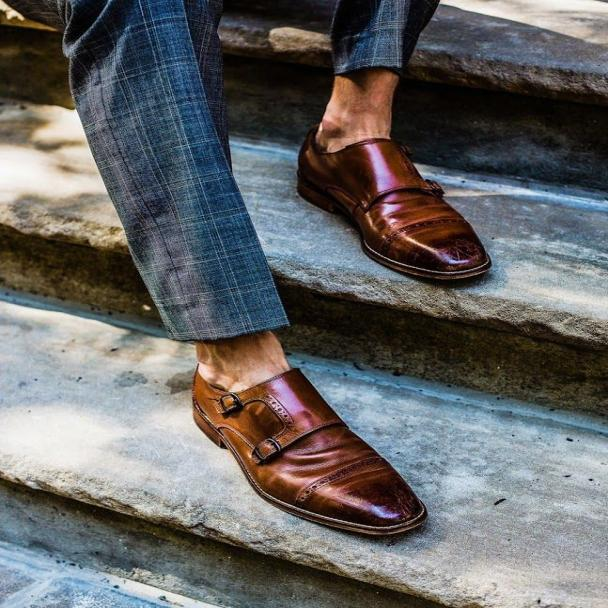Sepatu: (186, 362, 429, 538), (290, 123, 492, 284)
